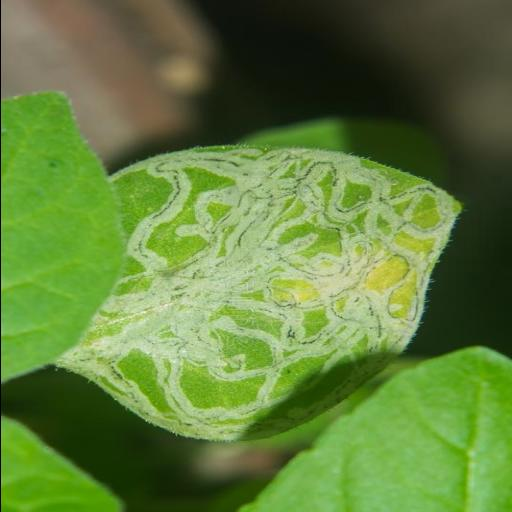disease_tomato: (45, 139, 467, 445)
